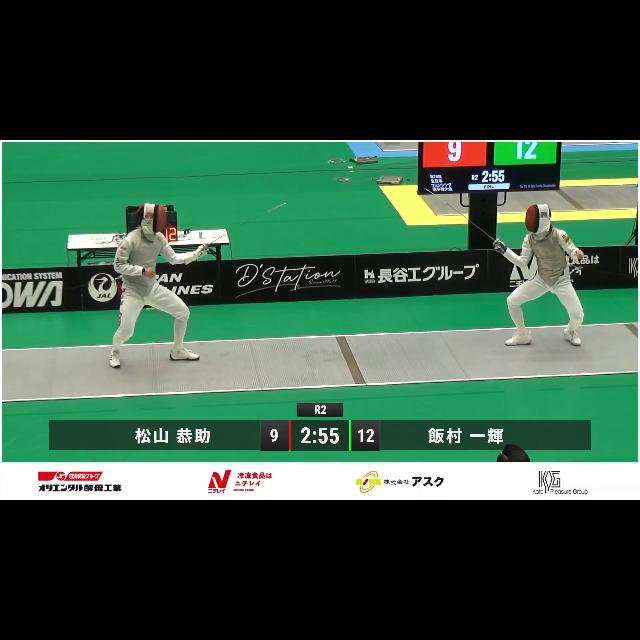blade: (417, 182, 507, 250), (198, 194, 292, 258)
